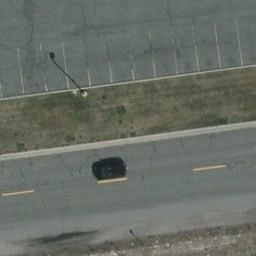car: (94, 163, 128, 181)
